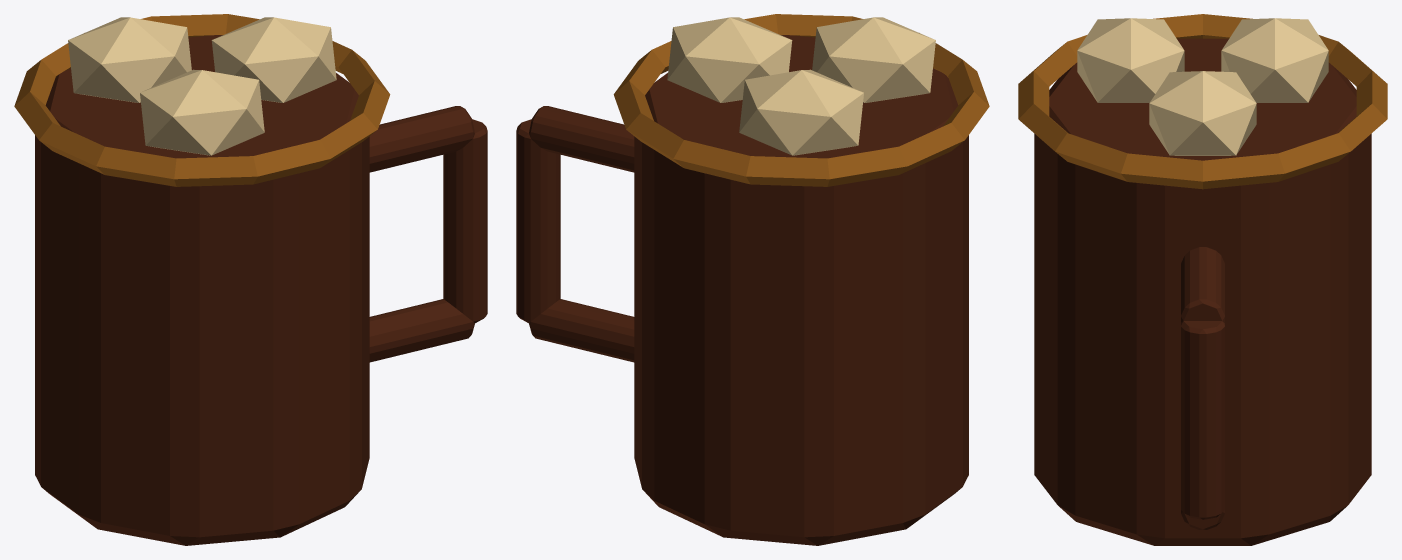
File: mug_of_ale.obj
3 renders of one model, left to right at view 1: azimuth 30°, elevation 25°; view 2: azimuth 150°, elevation 25°; view 3: azimuth 270°, elevation 25°, orthographic.
Parts seen in each view (by area): view 1: Drink_MugBody.002_MAT_Wood, Drink_Rim.002_MAT_OldGold, Drink_Foam2.002_MAT_Foam, Drink_Foam1.002_MAT_Foam, Drink_HandleSide.002_MAT_Wood, Drink_Foam0.002_MAT_Foam, Drink_HandleTop.002_MAT_Wood, Drink_HandleBottom.002_MAT_Wood; view 2: Drink_MugBody.002_MAT_Wood, Drink_Rim.002_MAT_OldGold, Drink_Foam1.002_MAT_Foam, Drink_Foam2.002_MAT_Foam, Drink_HandleSide.002_MAT_Wood, Drink_Foam0.002_MAT_Foam, Drink_HandleTop.002_MAT_Wood, Drink_HandleBottom.002_MAT_Wood; view 3: Drink_MugBody.002_MAT_Wood, Drink_Rim.002_MAT_OldGold, Drink_HandleSide.002_MAT_Wood, Drink_Foam0.002_MAT_Foam, Drink_Foam1.002_MAT_Foam, Drink_Foam2.002_MAT_Foam, Drink_HandleTop.002_MAT_Wood.
Part boxes in pixels (x1,y1,x2,y2): Drink_MugBody.002_MAT_Wood: (35, 35, 369, 545); Drink_Rim.002_MAT_OldGold: (14, 14, 390, 186); Drink_Foam2.002_MAT_Foam: (140, 69, 264, 155); Drink_Foam1.002_MAT_Foam: (68, 17, 191, 102); Drink_HandleSide.002_MAT_Wood: (443, 119, 487, 323); Drink_Foam0.002_MAT_Foam: (211, 17, 336, 102); Drink_HandleTop.002_MAT_Wood: (369, 106, 474, 172); Drink_HandleBottom.002_MAT_Wood: (369, 299, 474, 362); Drink_MugBody.002_MAT_Wood: (634, 35, 968, 545); Drink_Rim.002_MAT_OldGold: (613, 14, 989, 186); Drink_Foam1.002_MAT_Foam: (739, 69, 863, 155); Drink_Foam2.002_MAT_Foam: (812, 17, 935, 102); Drink_HandleSide.002_MAT_Wood: (516, 119, 560, 323); Drink_Foam0.002_MAT_Foam: (667, 17, 792, 102); Drink_HandleTop.002_MAT_Wood: (529, 106, 634, 172); Drink_HandleBottom.002_MAT_Wood: (529, 299, 634, 362); Drink_MugBody.002_MAT_Wood: (1034, 38, 1371, 545); Drink_Rim.002_MAT_OldGold: (1018, 14, 1387, 189); Drink_HandleSide.002_MAT_Wood: (1181, 321, 1224, 519); Drink_Foam0.002_MAT_Foam: (1149, 71, 1256, 155); Drink_Foam1.002_MAT_Foam: (1221, 18, 1328, 102); Drink_Foam2.002_MAT_Foam: (1077, 18, 1184, 102); Drink_HandleTop.002_MAT_Wood: (1181, 247, 1224, 322).
Bounding box in the file's own units: 1.96 × 1.88 × 1.4.
